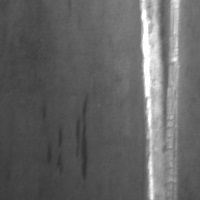inclusion: (73, 94, 92, 181), (46, 129, 66, 174)
scratches: (138, 1, 184, 199)
